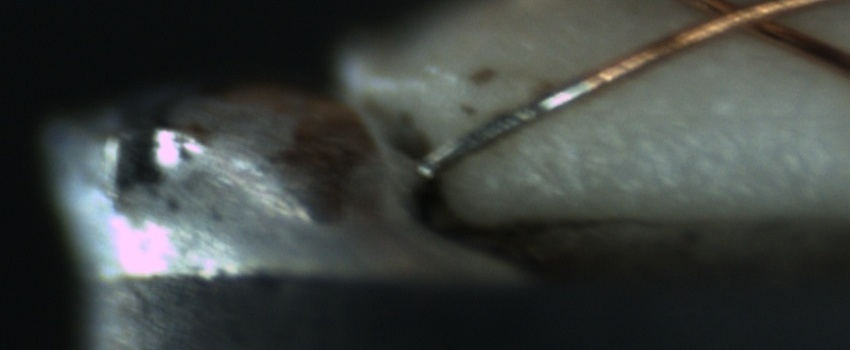CL: (683, 2, 799, 42)
DL: (537, 92, 850, 150)
TS: (424, 76, 591, 175)
